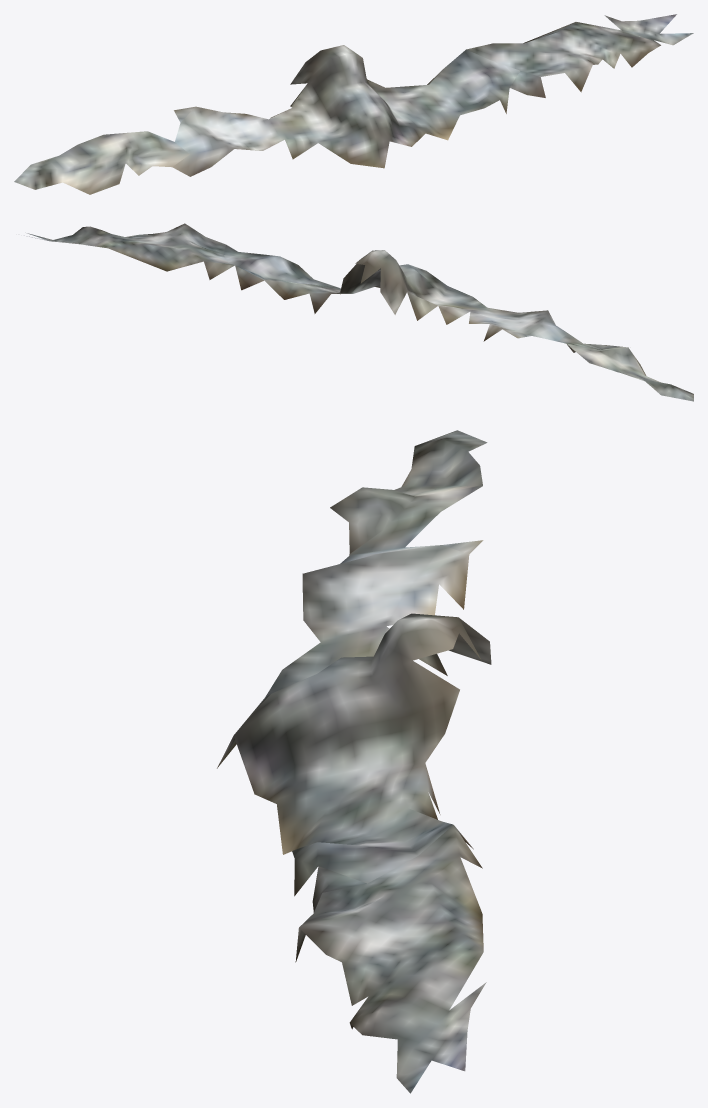
Rendered from Minded_Bat_AURA_001.glb.
The picture shows the model from 3 angles, top to bottom: view 1: azimuth 30°, elevation 25°; view 2: azimuth 150°, elevation 25°; view 3: azimuth 270°, elevation 25°; orthographic projection. The views are drawn at different scales.
Parts seen in each view (by area): view 1: MindedBat_Isolated; view 2: MindedBat_Isolated; view 3: MindedBat_Isolated.
Boxes of the visible parts, box(x1,y1,x2,y2) form: MindedBat_Isolated: box(14, 14, 693, 194); MindedBat_Isolated: box(24, 223, 693, 401); MindedBat_Isolated: box(217, 430, 491, 1093).
Bounding box in the file's own units: 0.0637 × 0.00773 × 0.0114.
1 material, 1 textured.
